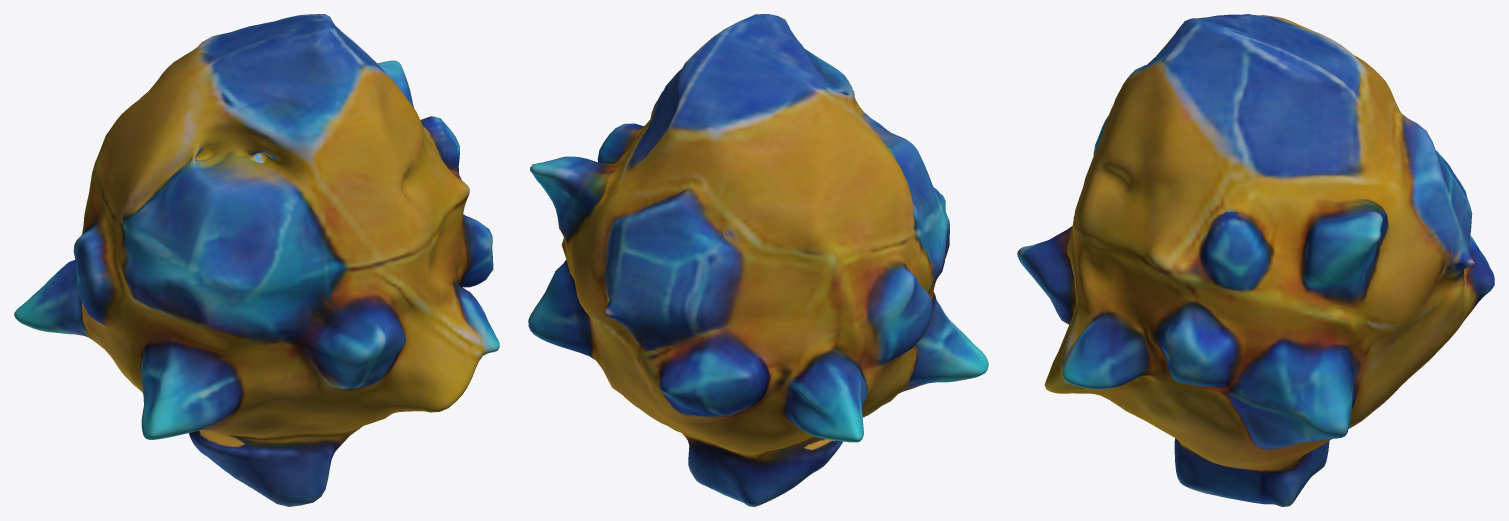
File: fbe463f2e7d3_glowing_galactic_cr.fbx
The picture shows the model from 3 angles, left to right: view 1: azimuth 30°, elevation 25°; view 2: azimuth 150°, elevation 25°; view 3: azimuth 270°, elevation 25°; orthographic projection. The views are drawn at different scales.
Parts seen in each view (by area): view 1: mesh; view 2: mesh; view 3: mesh.
Part boxes in pixels (x1,y1,x2,y2): mesh: (14,14,499,506); mesh: (528,14,988,506); mesh: (1017,14,1494,506).
Size of the model in its own units: 84.09 by 99.74 by 88.55.
